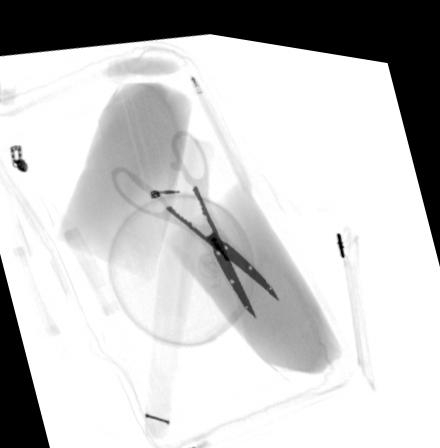Scissors: (111, 121, 280, 310)
